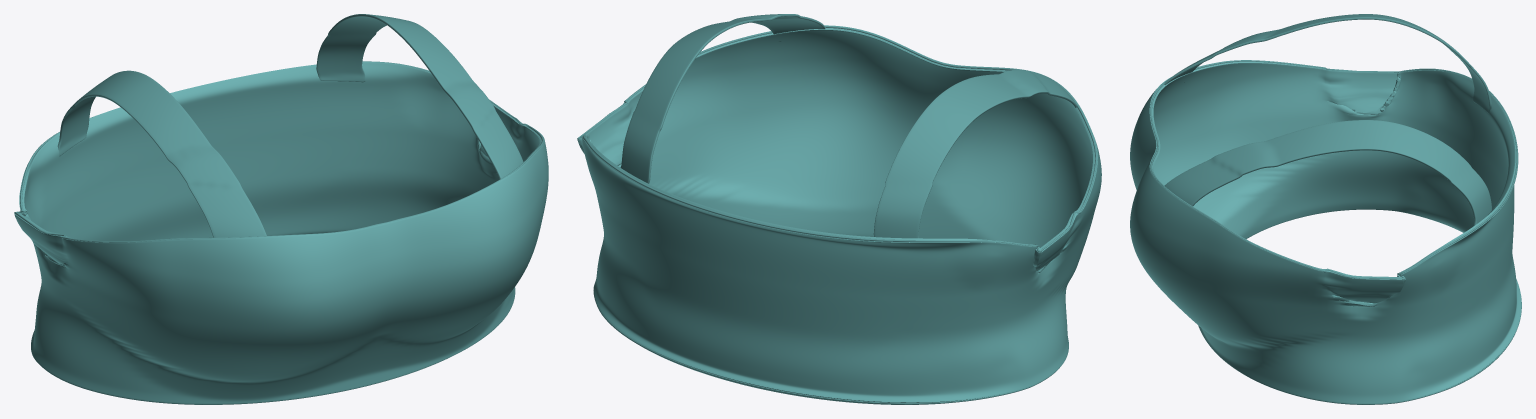
The model's file is Feminine-tank-top.glb.
The picture shows the model from 3 angles, left to right: view 1: azimuth 30°, elevation 25°; view 2: azimuth 150°, elevation 25°; view 3: azimuth 270°, elevation 25°; orthographic projection. The views are drawn at different scales.
Parts seen in each view (by area): view 1: Clothing / tank body, Clothing / Tank seated shoulder strap -1, Clothing / Tank seated shoulder strap 1, Top / seated binding191 1 export; view 2: Clothing / tank body, Clothing / Tank seated shoulder strap -1, Clothing / Tank seated shoulder strap 1, Top / seated binding191 1 export, Top / seated binding191 0 export; view 3: Clothing / tank body, Clothing / Tank seated shoulder strap 1, Clothing / Tank seated shoulder strap -1, Top / seated binding191 1 export, Top / seated binding191 0 export.
Part boxes in pixels (x1=…): Clothing / tank body: x1=14, y1=62, x2=548, y2=404; Clothing / Tank seated shoulder strap -1: x1=57, y1=70, x2=266, y2=237; Clothing / Tank seated shoulder strap 1: x1=316, y1=14, x2=523, y2=179; Top / seated binding191 1 export: x1=14, y1=61, x2=543, y2=242; Clothing / tank body: x1=577, y1=25, x2=1101, y2=404; Clothing / Tank seated shoulder strap -1: x1=873, y1=70, x2=1076, y2=238; Clothing / Tank seated shoulder strap 1: x1=620, y1=14, x2=825, y2=183; Top / seated binding191 1 export: x1=577, y1=26, x2=1097, y2=252; Top / seated binding191 0 export: x1=597, y1=306, x2=1059, y2=404; Clothing / tank body: x1=1130, y1=60, x2=1521, y2=404; Clothing / Tank seated shoulder strap 1: x1=1164, y1=120, x2=1491, y2=225; Clothing / Tank seated shoulder strap -1: x1=1164, y1=14, x2=1491, y2=113; Top / seated binding191 1 export: x1=1150, y1=60, x2=1518, y2=279; Top / seated binding191 0 export: x1=1247, y1=298, x2=1521, y2=404.
Bounding box in the file's own units: 0.6426 × 0.3449 × 0.5124.
